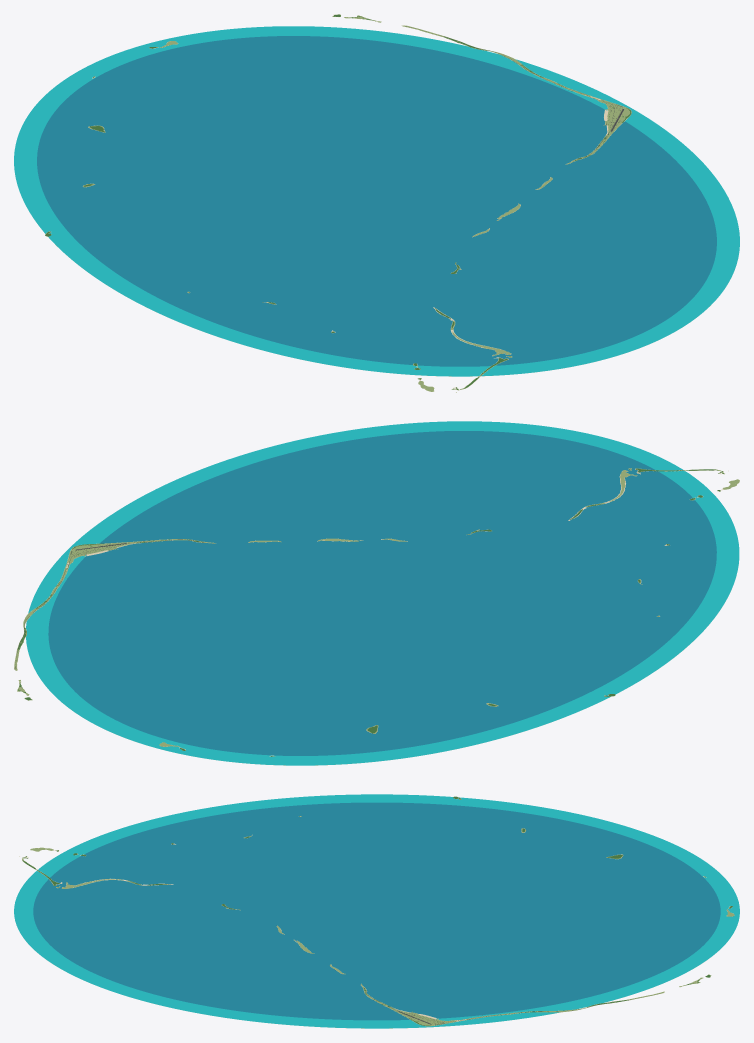
Rendered from Tuval-1.glb.
The picture shows the model from 3 angles, top to bottom: view 1: azimuth 30°, elevation 25°; view 2: azimuth 150°, elevation 25°; view 3: azimuth 270°, elevation 25°; orthographic projection. The views are drawn at different scales.
Parts seen in each view (by area): view 1: Funafuti Lagoon, Funafuti Reef Rim, Funafuti Islands, Funafuti OSM Landcover; view 2: Funafuti Lagoon, Funafuti Reef Rim, Funafuti Islands, Funafuti OSM Landcover; view 3: Funafuti Lagoon, Funafuti Reef Rim, Funafuti Islands, Funafuti OSM Landcover.
Part boxes in pixels (<box>): Funafuti Lagoon: <box>37,36,716,366</box>; Funafuti Reef Rim: <box>14,26,739,376</box>; Funafuti Islands: <box>45,14,631,392</box>; Funafuti OSM Landcover: <box>45,14,631,389</box>; Funafuti Lagoon: <box>48,431,716,755</box>; Funafuti Reef Rim: <box>26,421,739,765</box>; Funafuti Islands: <box>14,468,739,756</box>; Funafuti OSM Landcover: <box>18,468,723,756</box>; Funafuti Lagoon: <box>33,802,720,1020</box>; Funafuti Reef Rim: <box>14,794,739,1028</box>; Funafuti Islands: <box>22,797,734,1026</box>; Funafuti OSM Landcover: <box>22,796,732,1025</box>.
Size of what is drawn, in the model's own units: 18706 by 9.49 by 24506.
